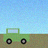vehicle: (4, 28, 29, 44)
